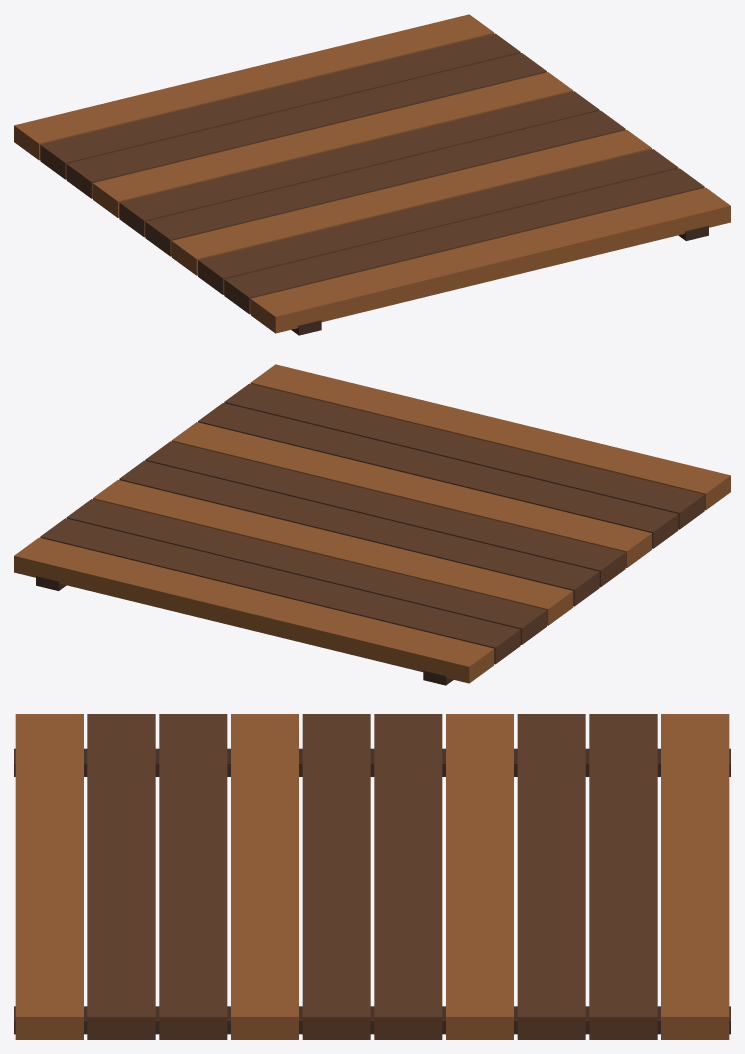
The model's file is FloorTimber__Plank.fbx.
3 renders of one model, top to bottom at view 1: azimuth 30°, elevation 25°; view 2: azimuth 150°, elevation 25°; view 3: azimuth 270°, elevation 25°, orthographic. The views are drawn at different scales.
Parts seen in each view (by area): view 1: FloorTimber__Plank; view 2: FloorTimber__Plank; view 3: FloorTimber__Plank.
Part boxes in pixels (x1,y1,x2,y2): FloorTimber__Plank: [14, 14, 730, 335]; FloorTimber__Plank: [14, 364, 730, 685]; FloorTimber__Plank: [14, 714, 730, 1039].
Bounding box in the file's own units: 400 × 20 × 400.
Materials: 1 (1 with a texture image).
